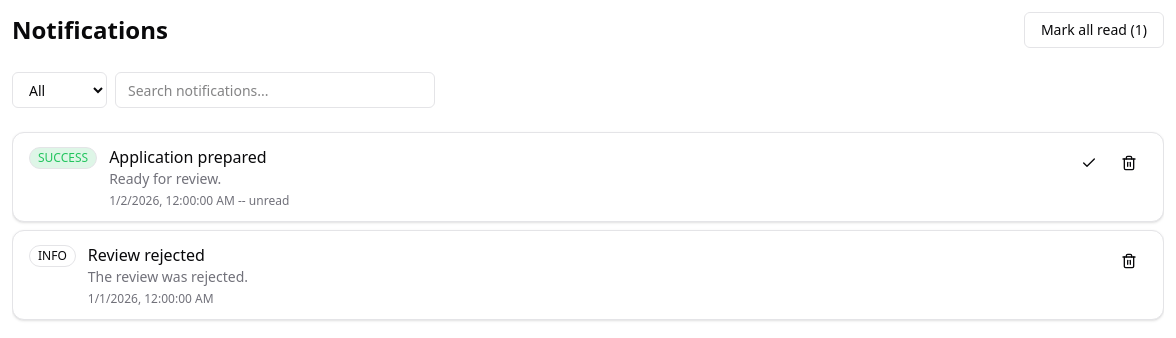
it: NotificationsPage › filters by search text
The image size is (1176, 338).
Expected: the text "Application prepared" is shown, x1=109 y1=146 x2=267 y2=168
Type "rejected" into the field with placeholder "Search notifications...".
click(275, 90); type("rejected")  # box x1=115 y1=72 x2=435 y2=108
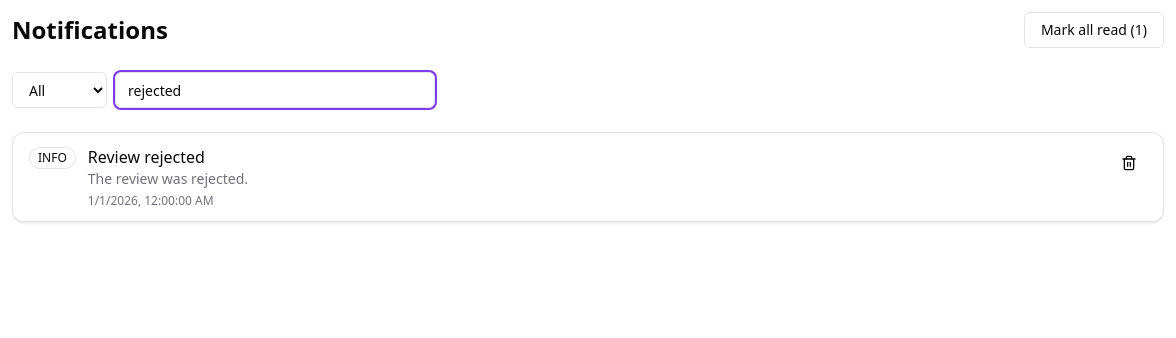
Expected: the text "Review rejected" is shown, x1=88 y1=146 x2=205 y2=168
Result: the text "Application prepared" is gone
